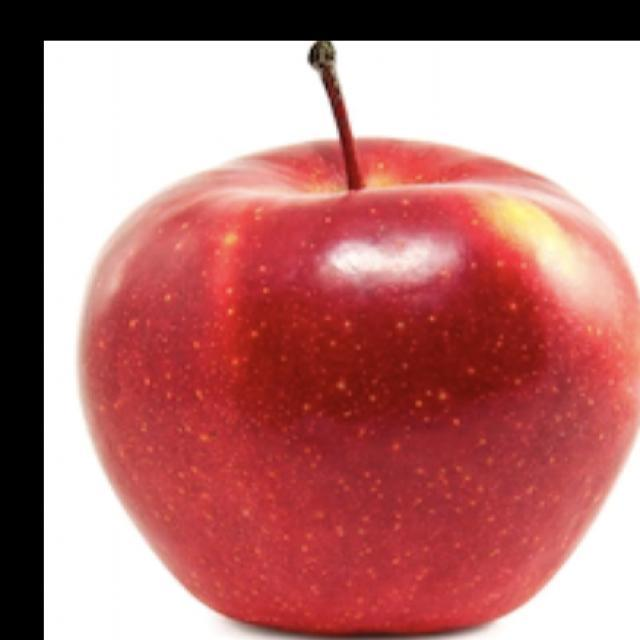Fresh Apple: (115, 146, 626, 640)
